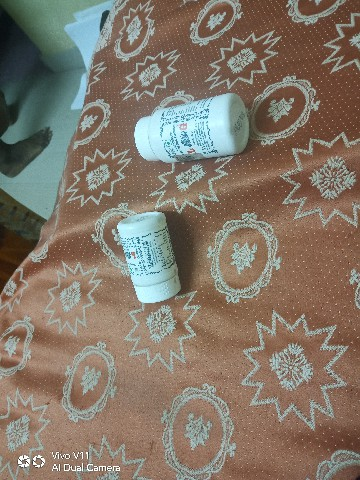lgasafoetidapowder large: (94, 88, 253, 168)
lgasafoetidapowder small: (110, 205, 192, 315)
